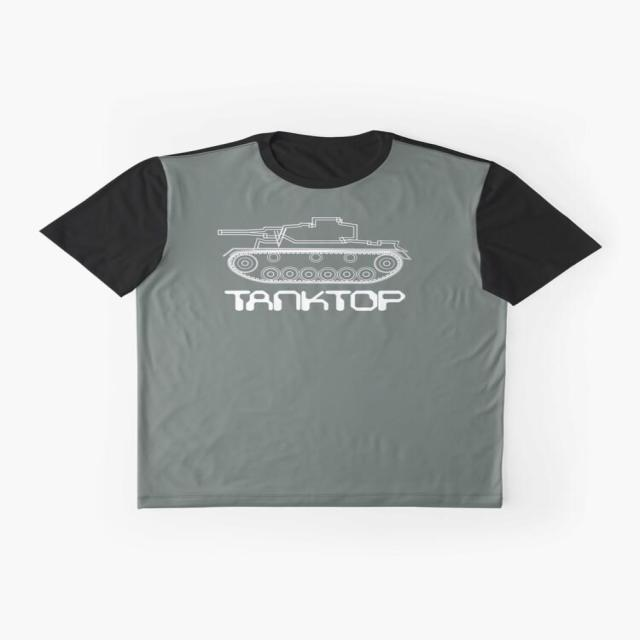MIL_MBT: (214, 205, 413, 284)
